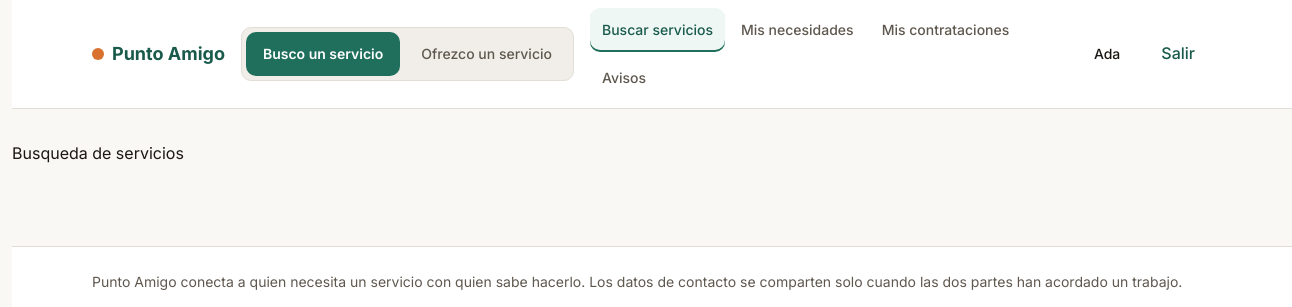
Test case: como cambia la navegacion › el catalogo tambien cuenta: es la pantalla de inicio de la vista de solicitante
Expected: the text "Busqueda de servicios" is shown, [12, 143, 184, 163]
Click the button "Ofrezco un servicio": (487, 54) [404, 32, 569, 76]
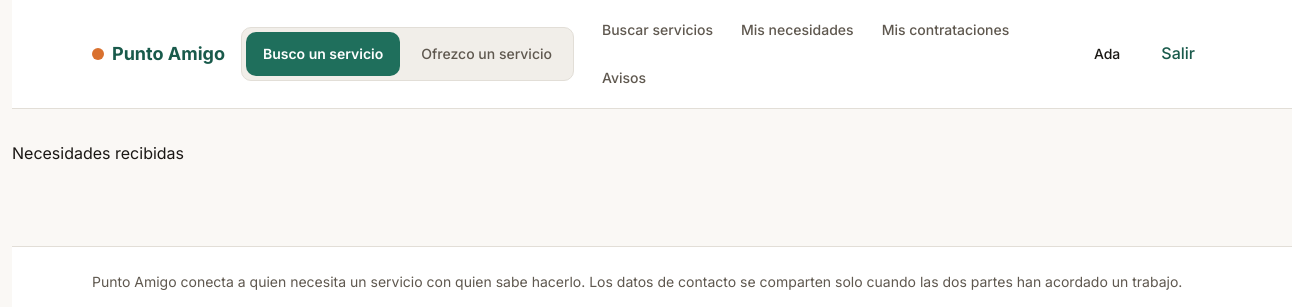
Expected: the text "Necesidades recibidas" is shown, [12, 143, 184, 163]
